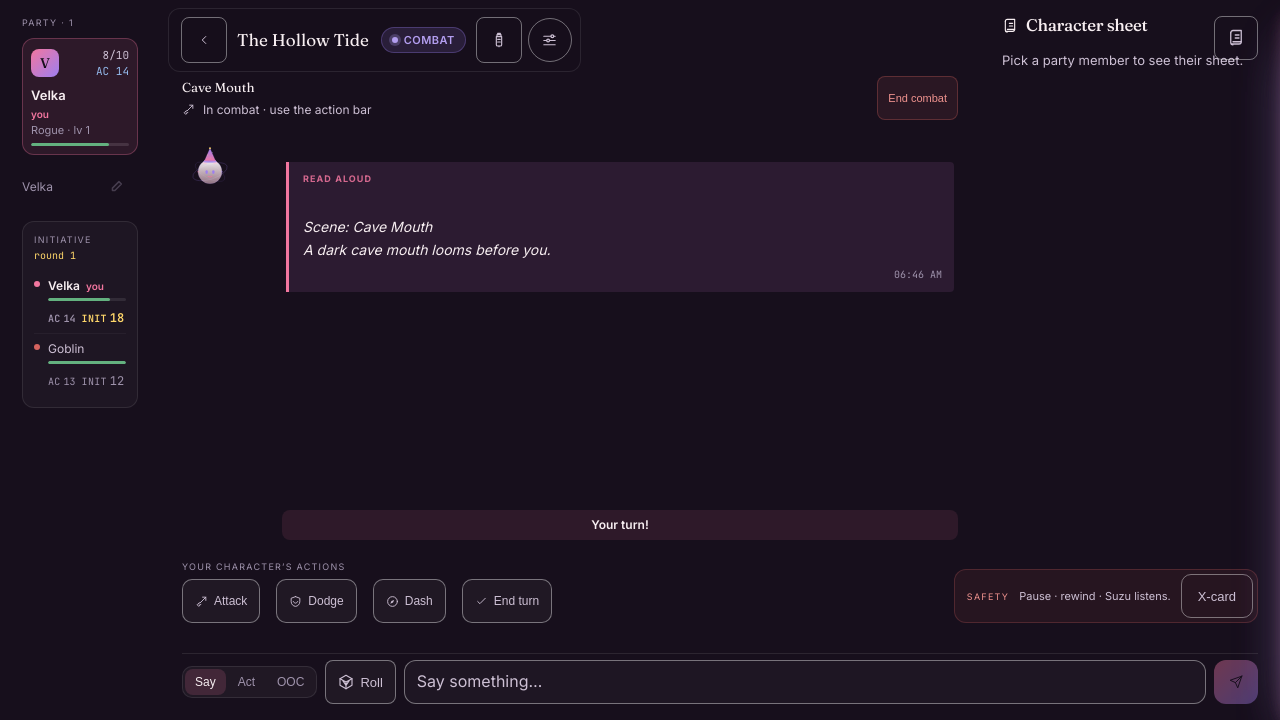
Test case: CUI-12 — scene_advance auto-flow › scene_advance on endTurn response logs the scene shift and refreshes grounding
Expected: the text "The Hollow Tide" is shown, [237,27,369,53]
What coordinates should you click on to do the following:
click the button "End turn"
I would click on:
 (507, 601)
Its box is [462,579,552,623].
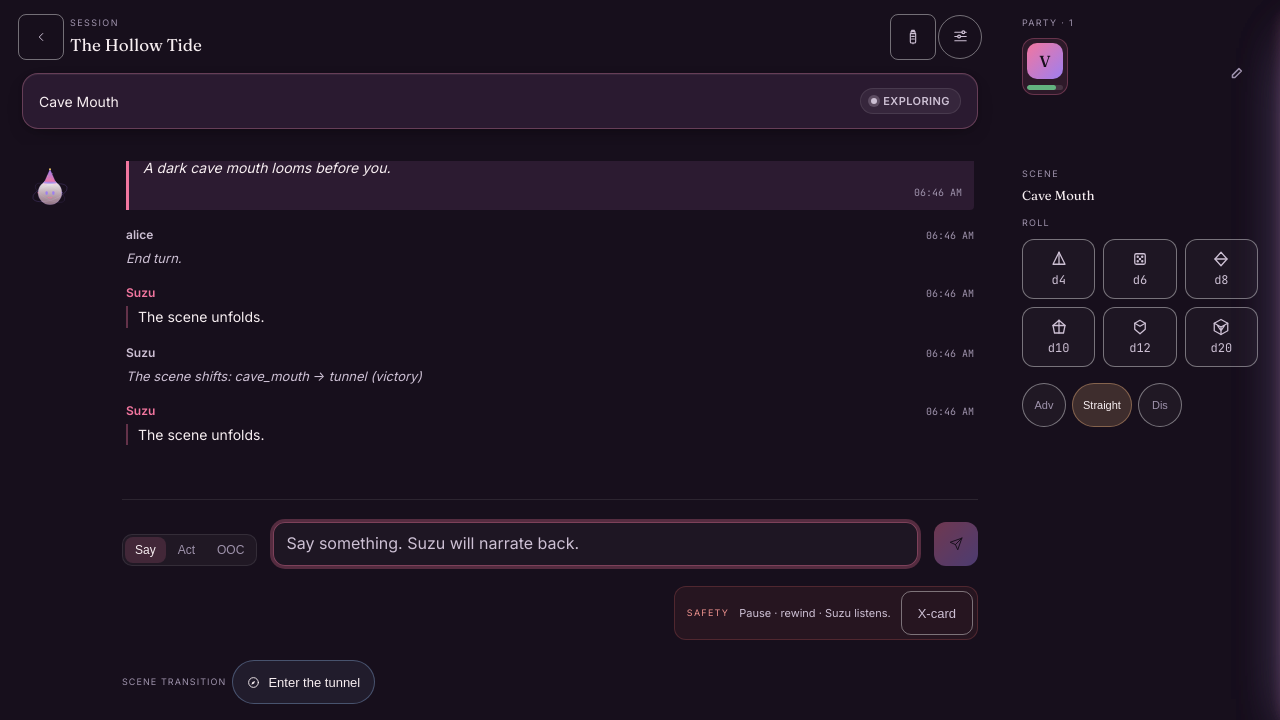
Result: the text "The scene shifts: cave_mouth → tunnel (victory)" is shown at [126,368,422,384]
